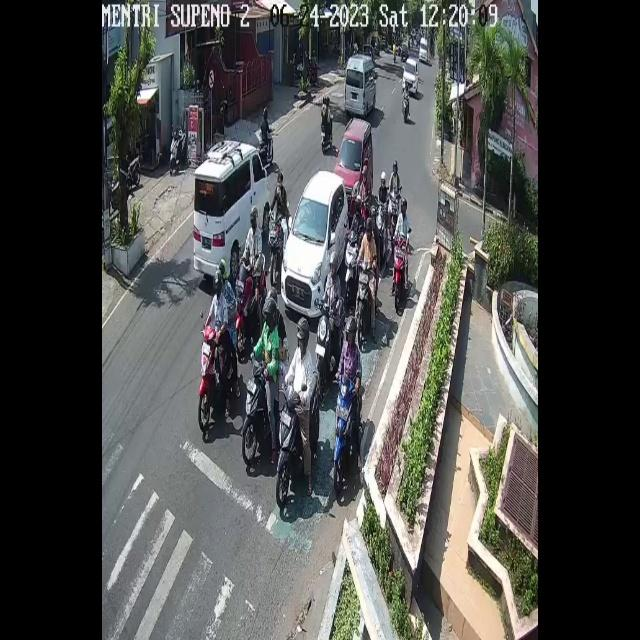bus: (240, 351, 294, 464), (286, 356, 328, 494), (198, 323, 238, 432), (330, 374, 363, 500), (236, 253, 266, 324), (316, 298, 339, 380), (357, 259, 374, 338), (266, 210, 281, 286), (343, 227, 359, 290), (393, 237, 406, 310), (321, 105, 334, 153), (388, 188, 399, 225), (400, 90, 410, 123), (377, 206, 387, 237)
car: (342, 56, 376, 114)
motorcycle: (193, 138, 270, 276), (281, 169, 349, 319), (334, 116, 374, 196), (402, 58, 420, 92), (418, 35, 430, 63)
